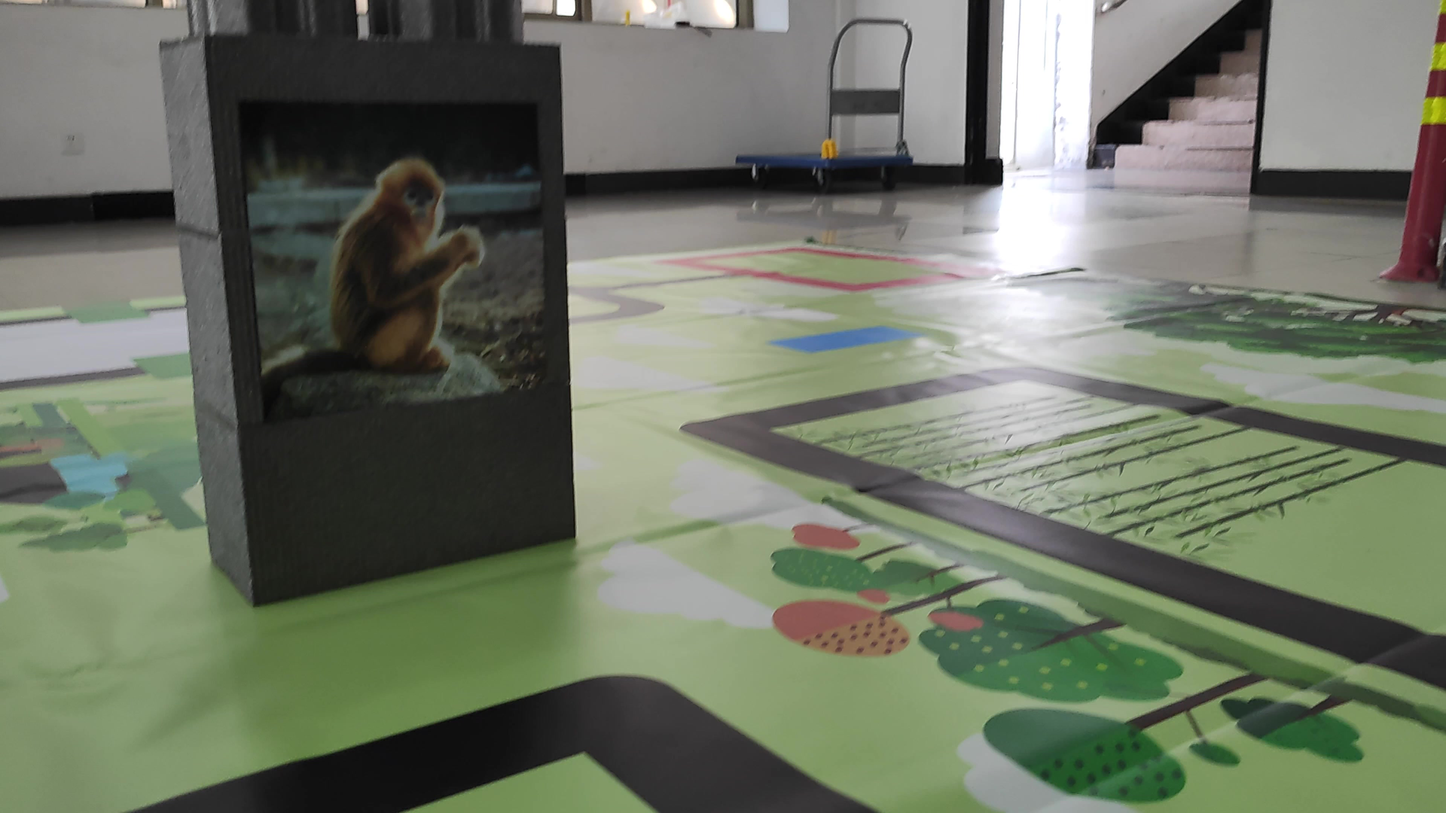monkey: (291, 143, 525, 370)
